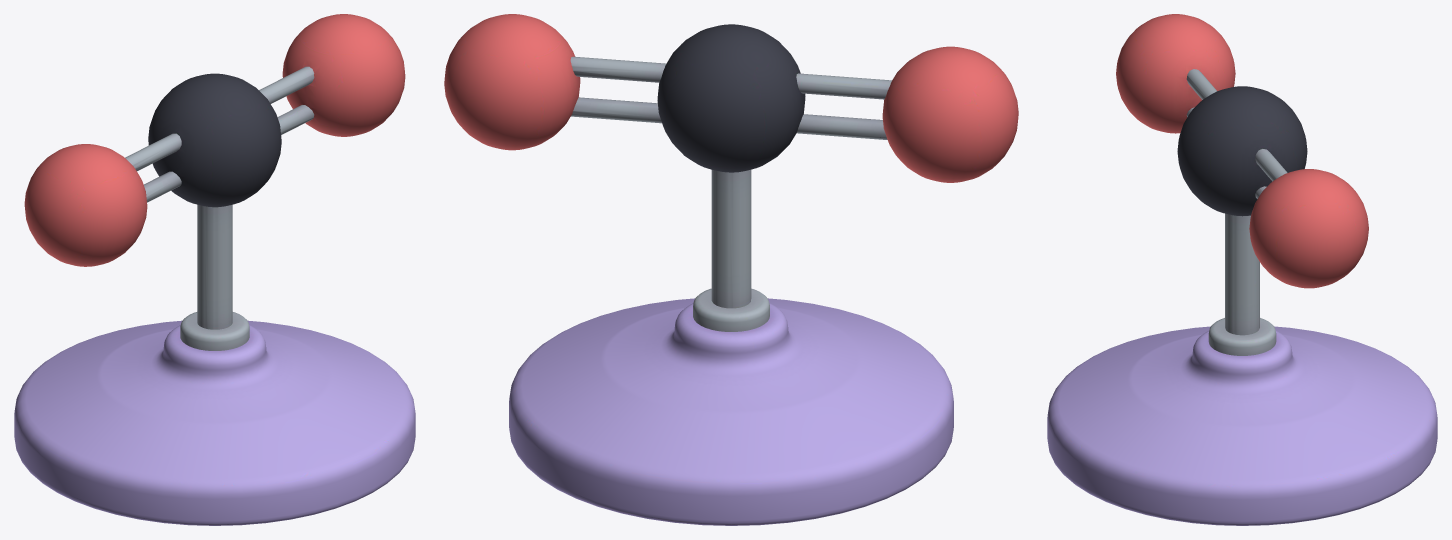
File: co2-molecule.glb
3 renders of one model, left to right at view 1: azimuth 30°, elevation 25°; view 2: azimuth 150°, elevation 25°; view 3: azimuth 270°, elevation 25°, orthographic. The views are drawn at different scales.
Parts seen in each view (by area): view 1: co2-molecule_body; view 2: co2-molecule_body; view 3: co2-molecule_body.
Part boxes in pixels (x1,y1,x2,y2): co2-molecule_body: (14,14,415,525); co2-molecule_body: (444,14,1018,525); co2-molecule_body: (1047,14,1437,525).
Size of the model in its own units: 0.1122 by 0.09 by 0.09.
Materials: 1 (1 with a texture image).
